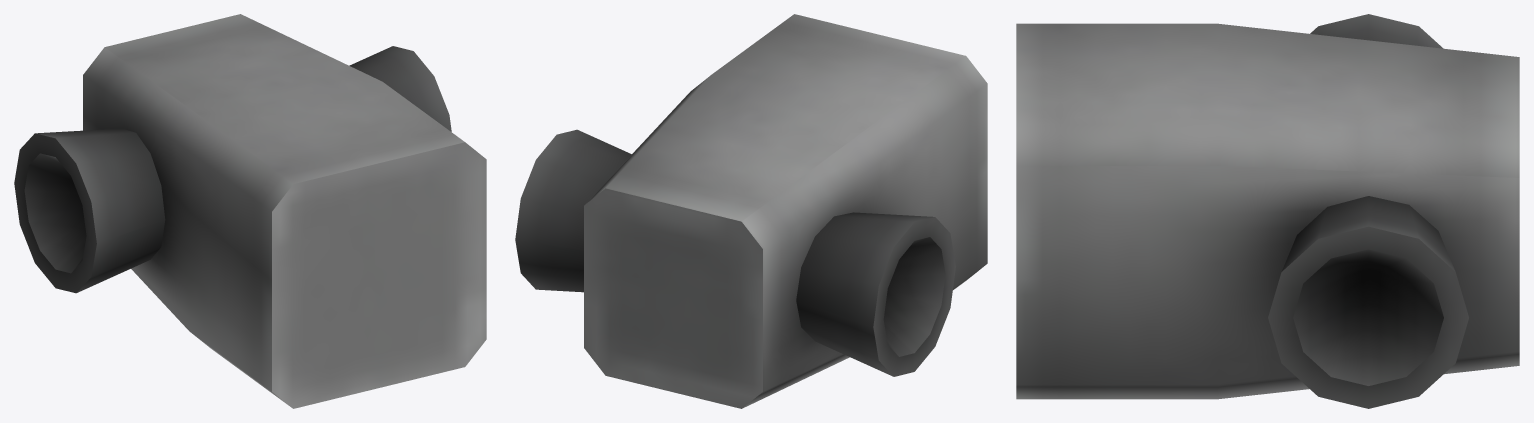
File: octans_rcs_srf_2.obj
3 renders of one model, left to right at view 1: azimuth 30°, elevation 25°; view 2: azimuth 150°, elevation 25°; view 3: azimuth 270°, elevation 25°, orthographic. The views are drawn at different scales.
Parts seen in each view (by area): view 1: mesh; view 2: mesh; view 3: mesh.
Part boxes in pixels (x1,y1,x2,y2): mesh: (14, 14, 486, 408); mesh: (515, 14, 987, 408); mesh: (1016, 14, 1519, 408).
Size of the model in its own units: 0.125 by 0.075 by 0.125.
1 material, 1 textured.
